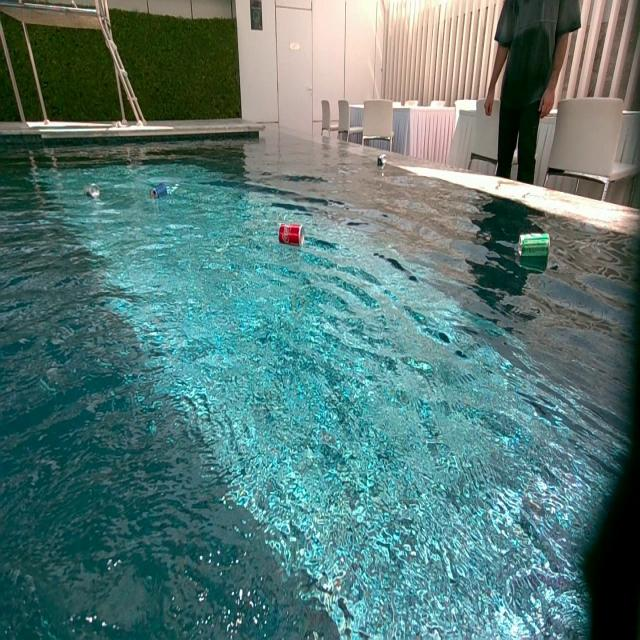Cans: (517, 232, 550, 262), (278, 225, 304, 250), (149, 180, 176, 198), (87, 184, 101, 200), (378, 155, 386, 168)
